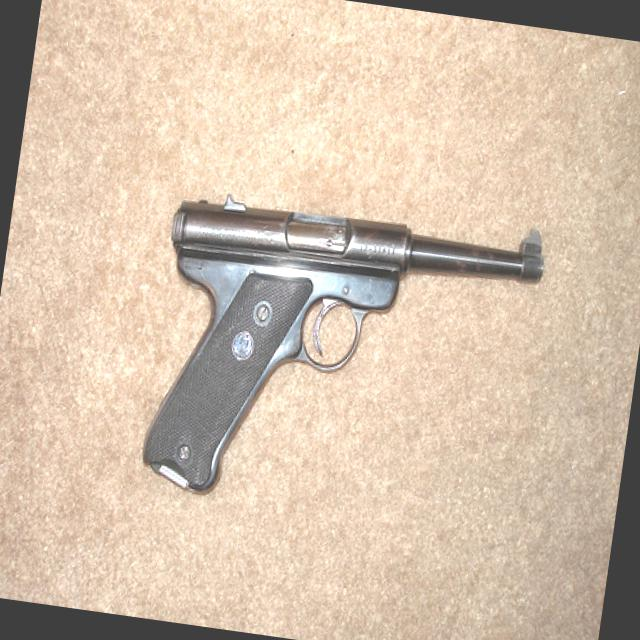handgun: (130, 178, 548, 530)
